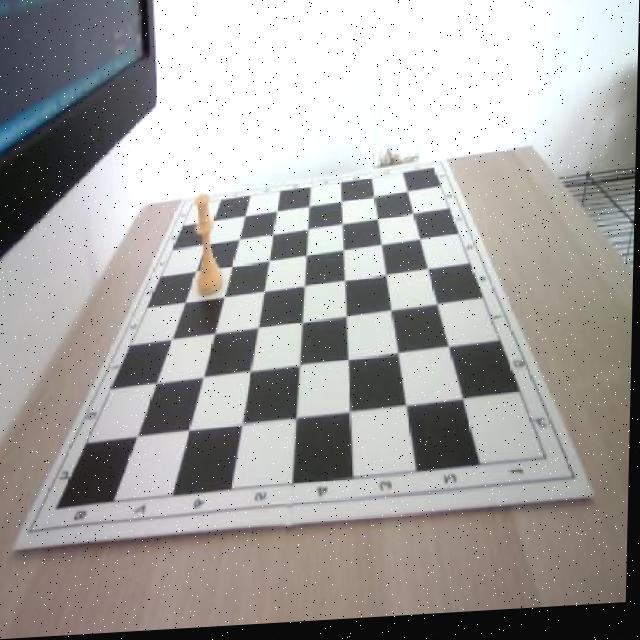white-pawn: (194, 194, 225, 300)
